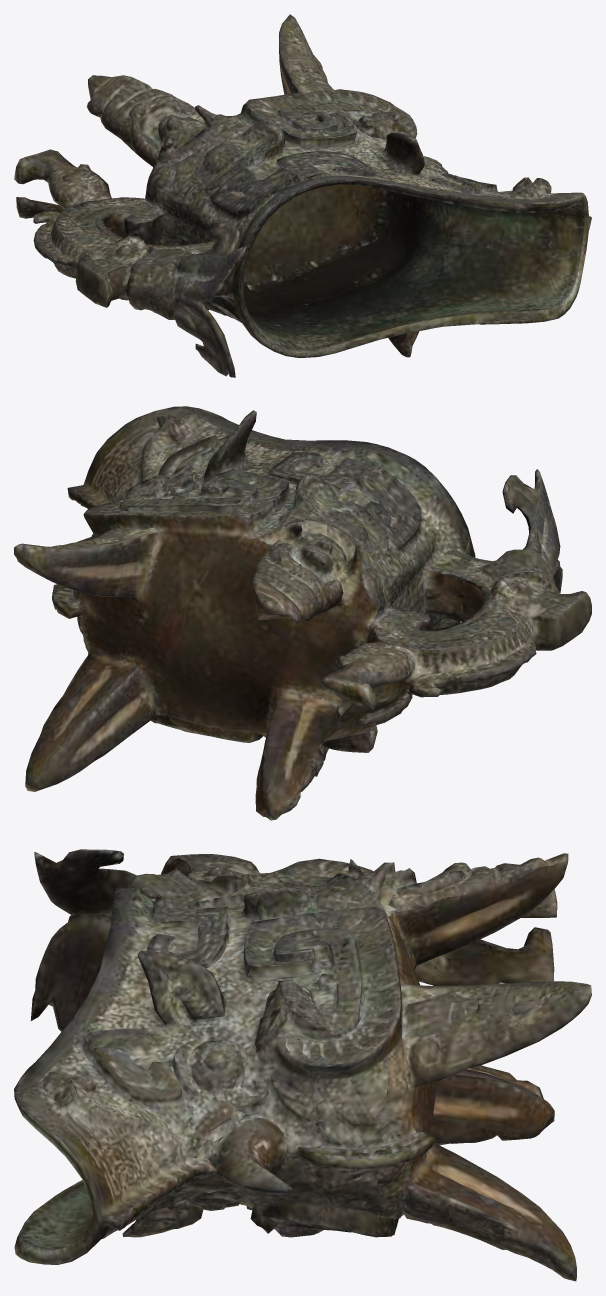
Rendered from ewer-base-20k-512-thumb.glb.
3 views of the same model, one above another, from view 1: azimuth 30°, elevation 25°; view 2: azimuth 150°, elevation 25°; view 3: azimuth 270°, elevation 25° (orthographic). The views are drawn at different scales.
Bounding box in the file's own units: 0.2871 × 0.1287 × 0.2201.
Materials: 1 (1 with a texture image).
